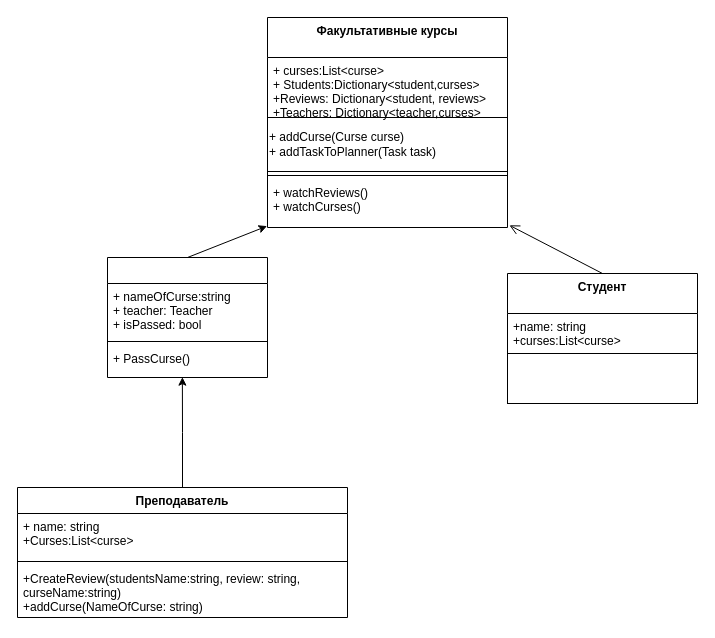
Some shapes in this 715 by 638 pixel diagram are drawn without their labels. The shapes that lost their labels are listed below. From the top down, each one's box as (x1, y1, x2, y2) in pixels, then its label:
(106, 256, 268, 378): Курс
(506, 352, 698, 404): + create Student(name:string) +singUp( couseName:string)
